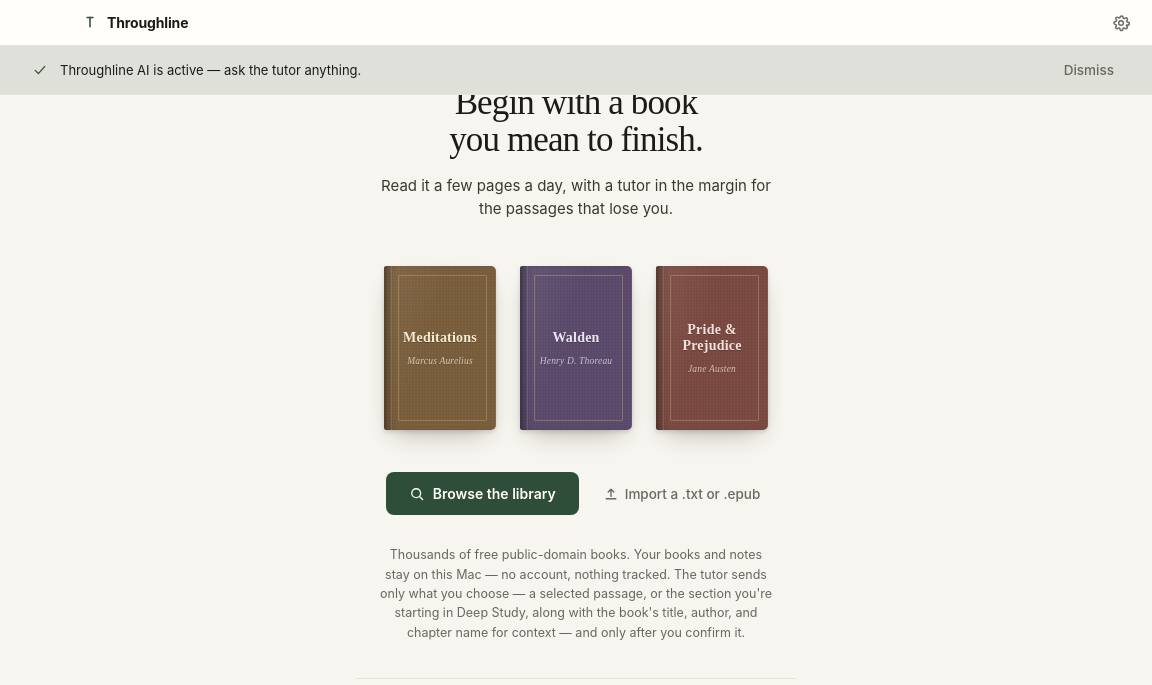
Test case: App — company activation deep link feedback (CORE-1009) › shows a visible, dismissable confirmation when activation succeeds
This screenshot has width=1152, height=685.
Expected: the message shows "Throughline AI is active — ask the tutor anything.", [60, 62, 361, 78]
// The reader can put it away.
Click the button "Dismiss" at (1089, 70), box [1058, 54, 1120, 86]
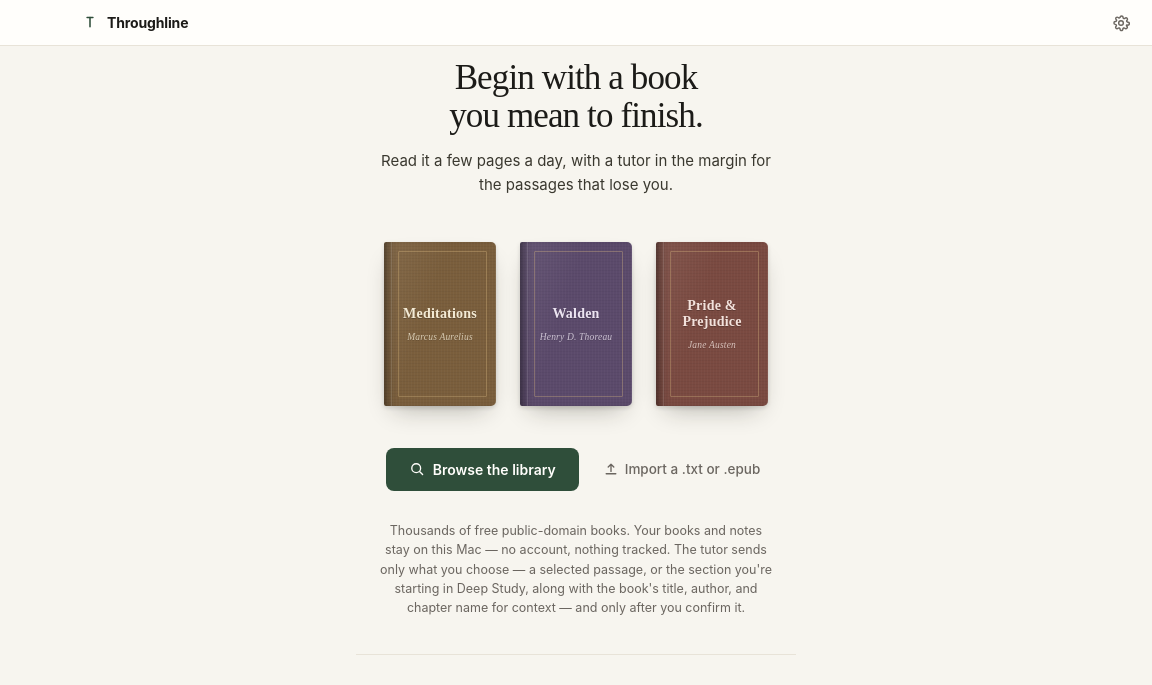
Expected: the message "Throughline AI is active — ask the tutor anything. Dismiss" is gone
Expected: the text "Throughline AI is active" is gone
